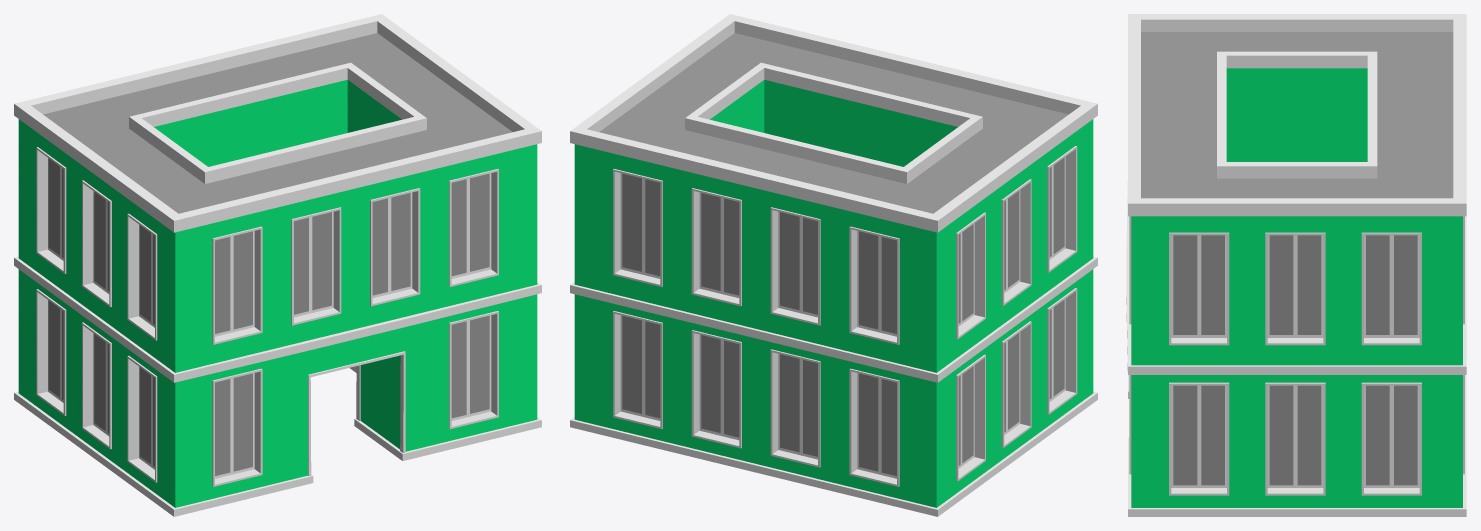
The model's file is SM_House_22_03.FBX.
3 views of the same model, side by side, from view 1: azimuth 30°, elevation 25°; view 2: azimuth 150°, elevation 25°; view 3: azimuth 270°, elevation 25° (orthographic). The views are drawn at different scales.
Visible parts, largest first — view 1: SM_House_22_03; view 2: SM_House_22_03; view 3: SM_House_22_03.
Part boxes in pixels (left/top/right/bottom): SM_House_22_03: left=14, top=14, right=541, bottom=516; SM_House_22_03: left=570, top=14, right=1097, bottom=516; SM_House_22_03: left=1126, top=14, right=1466, bottom=516.
Bounding box in the file's own units: 8.12 × 6.25 × 6.15.
Materials: 1 (1 with a texture image).
